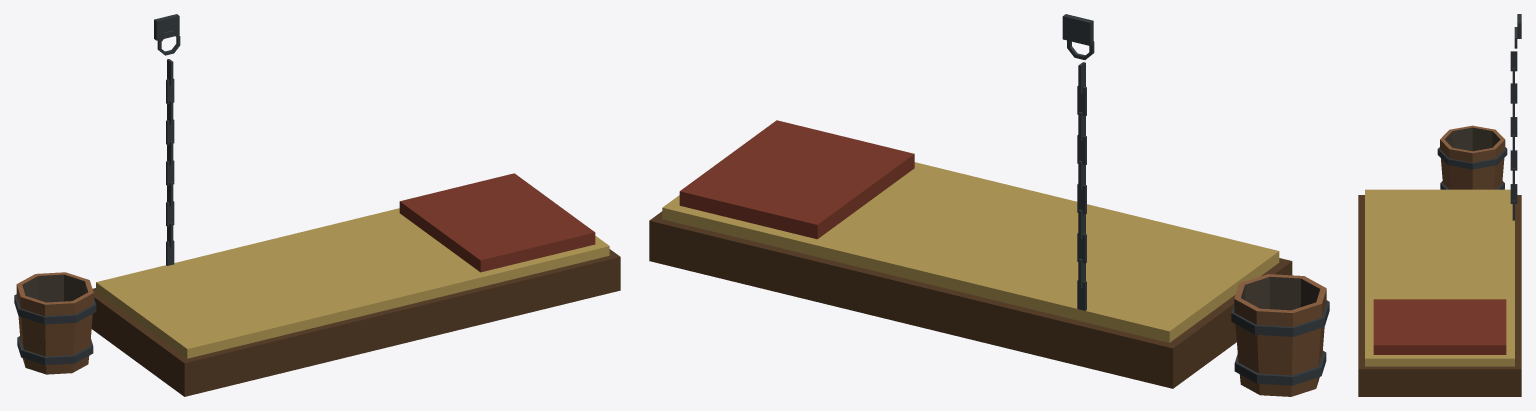
File: cell-pallet.glb
The picture shows the model from 3 angles, left to right: view 1: azimuth 30°, elevation 25°; view 2: azimuth 150°, elevation 25°; view 3: azimuth 270°, elevation 25°; orthographic projection. The views are drawn at different scales.
Parts seen in each view (by area): view 1: cell-pallet; view 2: cell-pallet; view 3: cell-pallet.
Part boxes in pixels (x1,y1,x2,y2): cell-pallet: (14,14,620,396); cell-pallet: (649,14,1329,396); cell-pallet: (1358,14,1521,396).
Bounding box in the file's own units: 2.32 × 1.2 × 0.75.
1 material, 1 textured.
